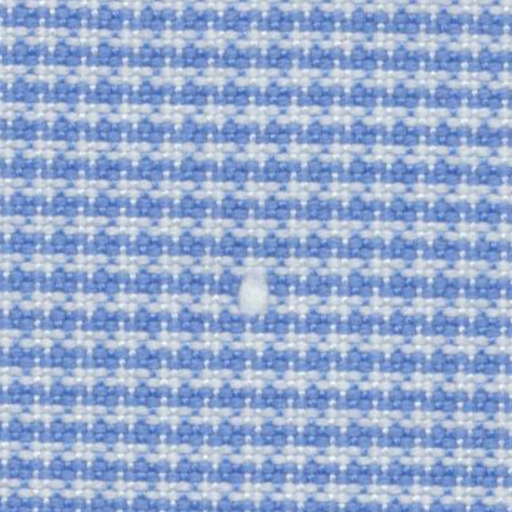MianQiu: (216, 259, 289, 324)
